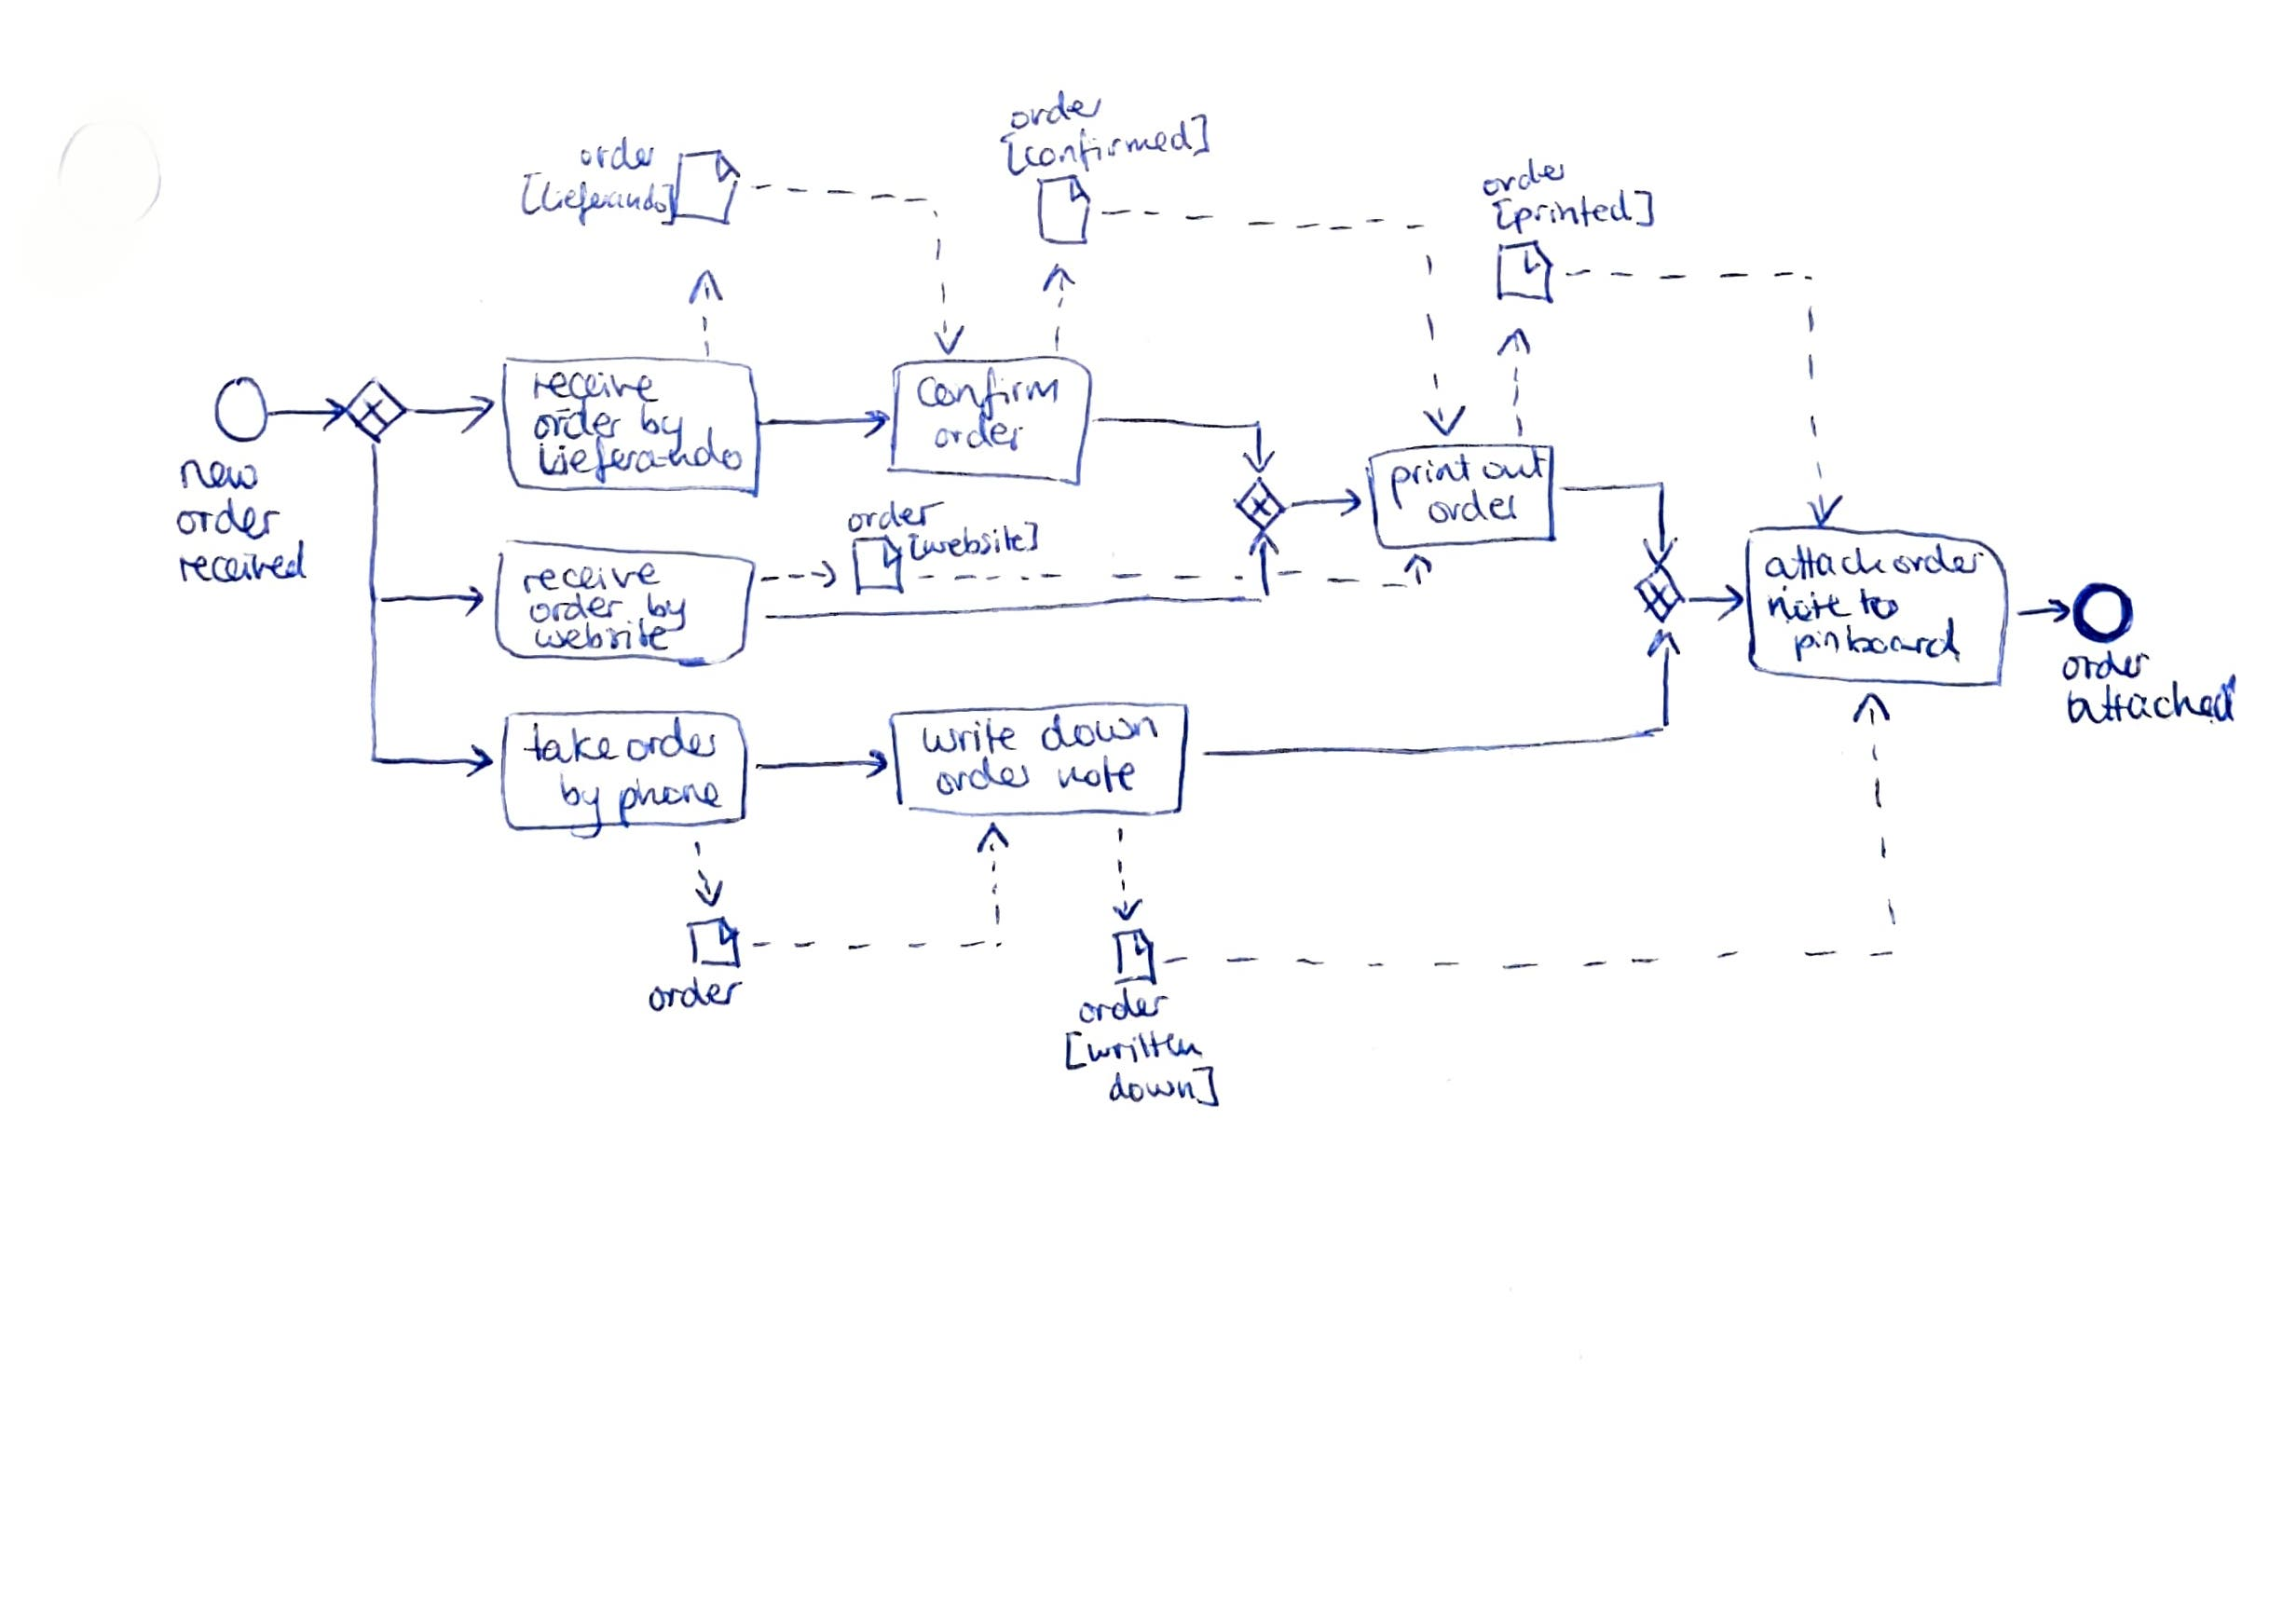Lieferando: (536, 438, 745, 482)
[Lieferando]: (513, 172, 680, 228)
[confirmed]: (997, 132, 1209, 181)
[printed]: (1490, 190, 1657, 241)
[website]: (905, 529, 1044, 568)
[written: (1060, 1030, 1206, 1070)
attached: (2060, 678, 2244, 731)
attack: (1763, 543, 1888, 580)
by: (554, 772, 606, 840), (636, 404, 687, 446), (645, 589, 689, 629)
confirm: (916, 367, 1062, 410)
down: (1037, 708, 1158, 754)
down]: (1105, 1065, 1223, 1109)
new: (176, 457, 264, 494)
note: (1765, 585, 1854, 626), (1053, 756, 1137, 796)
order: (926, 754, 1040, 798), (624, 715, 719, 766), (645, 972, 745, 1018), (174, 501, 285, 541), (1422, 487, 1526, 529), (1074, 986, 1167, 1030), (1009, 86, 1105, 128), (2058, 647, 2153, 687), (529, 402, 626, 439), (1891, 543, 1982, 582), (845, 496, 944, 531), (573, 137, 657, 178), (933, 415, 1026, 450), (1478, 163, 1569, 199), (525, 594, 626, 624)
out: (1480, 450, 1552, 487)
phone: (613, 772, 724, 828)
pinboard: (1794, 620, 1960, 664)
print: (1385, 462, 1471, 506)
receive: (518, 559, 663, 596), (529, 366, 661, 401)
received: (174, 541, 311, 589)
take: (520, 724, 620, 768)
to: (1854, 585, 1903, 622)
website: (529, 622, 671, 657)
write: (921, 715, 1019, 759)
